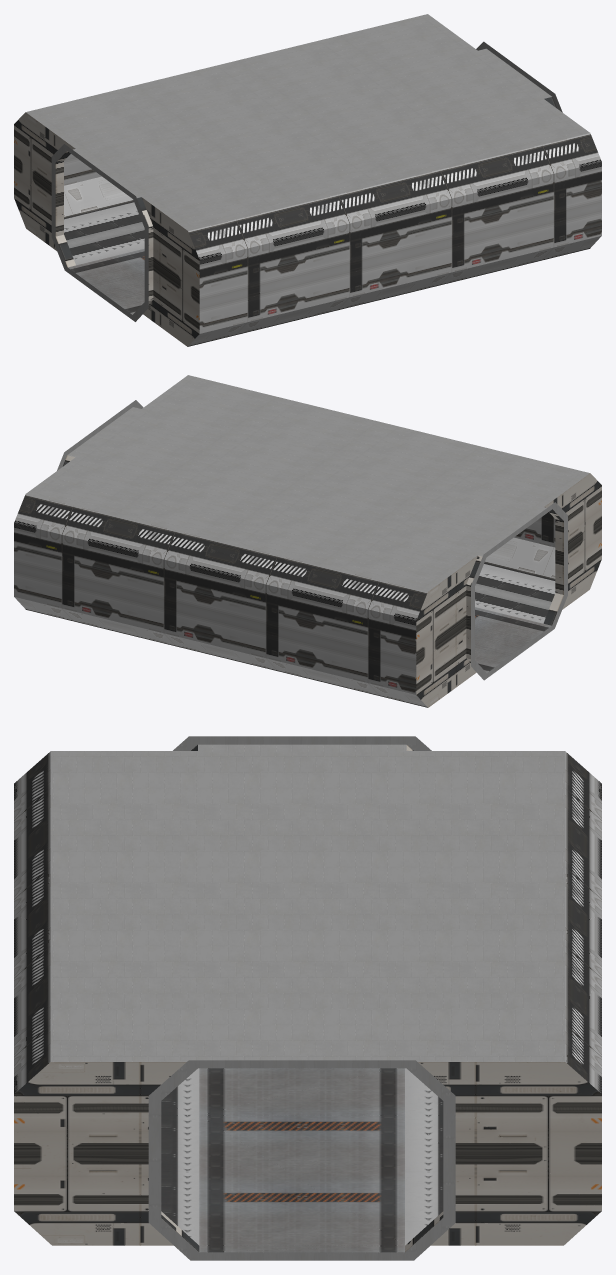
File: lab_large_hall.FBX
3 renders of one model, top to bottom at view 1: azimuth 30°, elevation 25°; view 2: azimuth 150°, elevation 25°; view 3: azimuth 270°, elevation 25°, orthographic. The views are drawn at different scales.
Parts seen in each view (by area): view 1: Tonnel; view 2: Tonnel; view 3: Tonnel.
Boxes of the visible parts, box(x1,y1,x2,y2) form: Tonnel: box(14, 14, 601, 346); Tonnel: box(14, 375, 601, 707); Tonnel: box(14, 736, 601, 1260).
Bounding box in the file's own units: 6.61 × 1.91 × 5.07.
5 materials, 5 textured.
